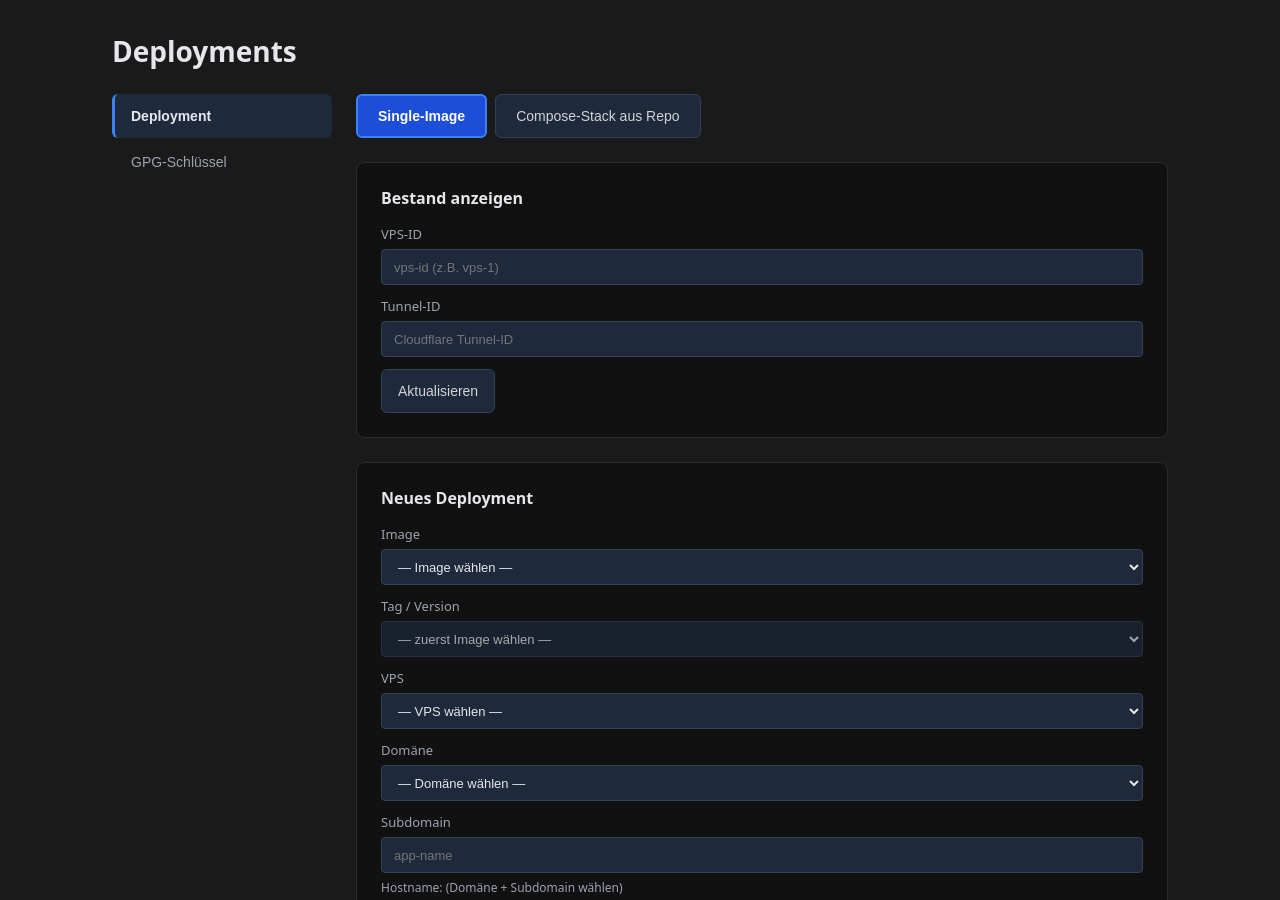
DeploymentsView — config-Verzeichnis-Mount (deploy-config-volume-mount.md AC8) › AC8: Checkbox aktivieren zeigt config-App-Feld (mit Default aus Image-Slug) + Host-Pfad-Vorschau, kein Seed-Feld
The width and height of the screenshot is (1280, 900).
Select "brew-assistent" in the dropdown with id "deploy-image-select": (762, 567) [381,549,1143,585]
(page scrolled)
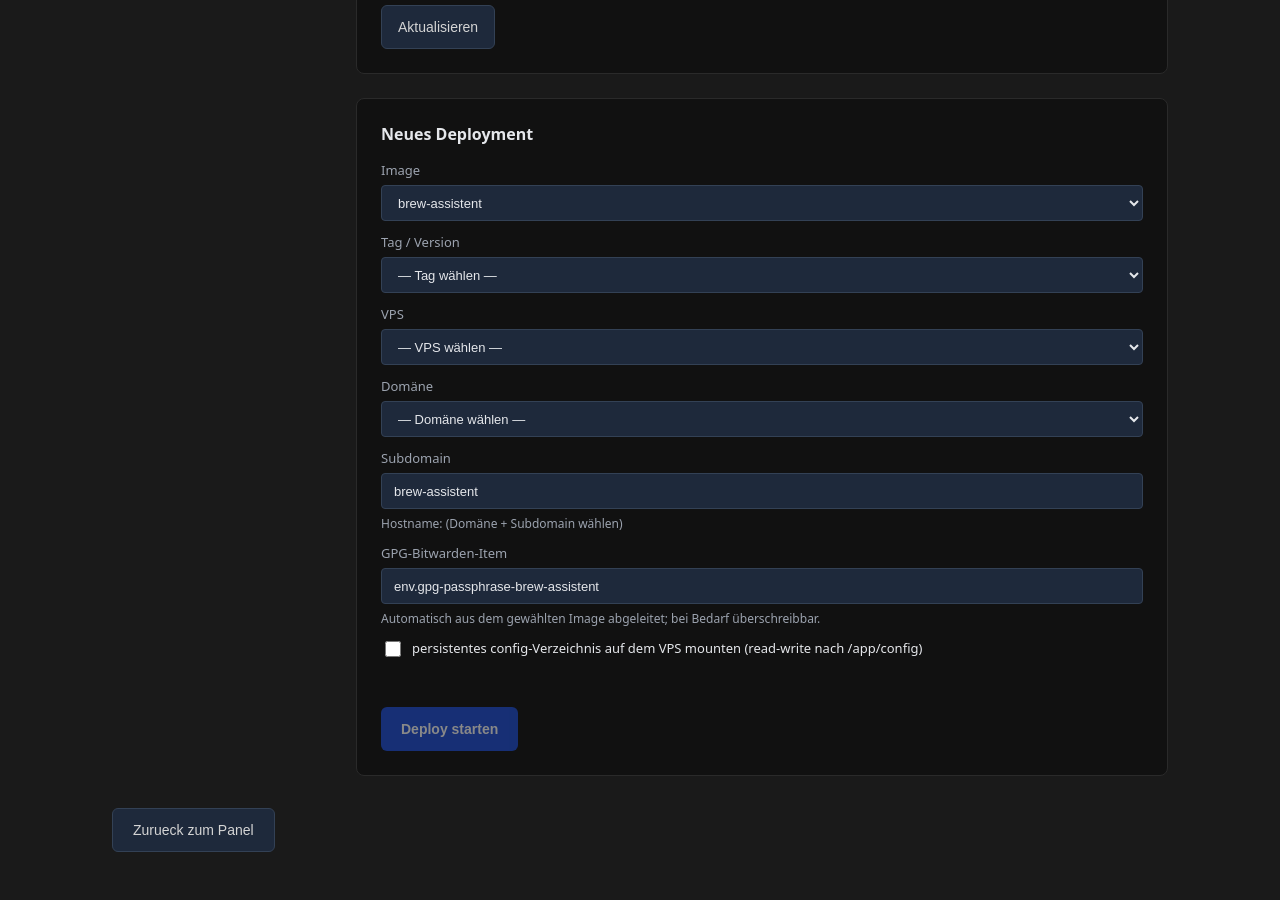
Click the checkbox with id "deploy-requires-config": (393, 649) [385,641,401,657]
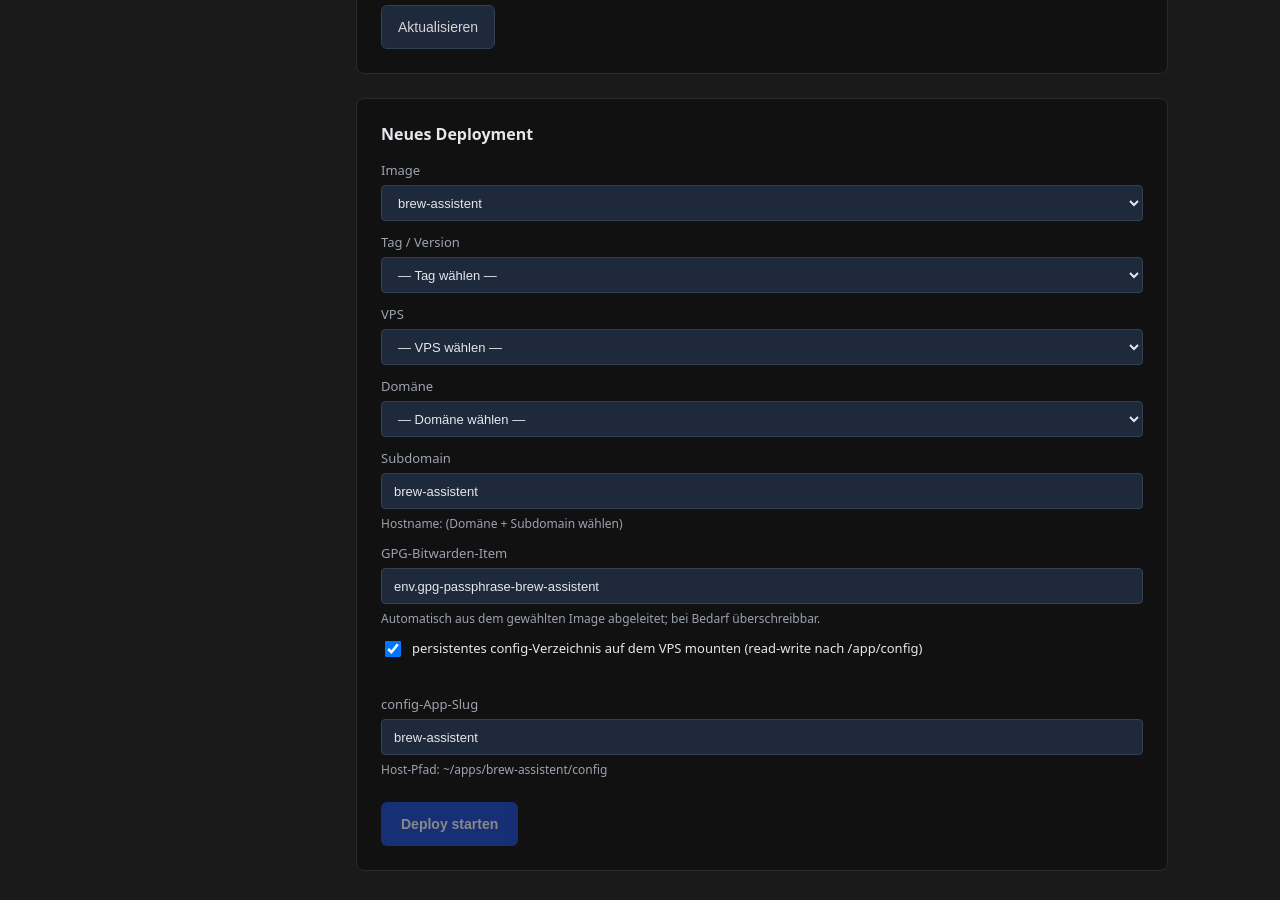
Expected: the field with id "deploy-config-app" holds "brew-assistent", [381,719,1143,755]
Expected: the text with id "deploy-config-host-path-preview" shows "~/apps/brew-assistent/config", [381,761,607,778]
